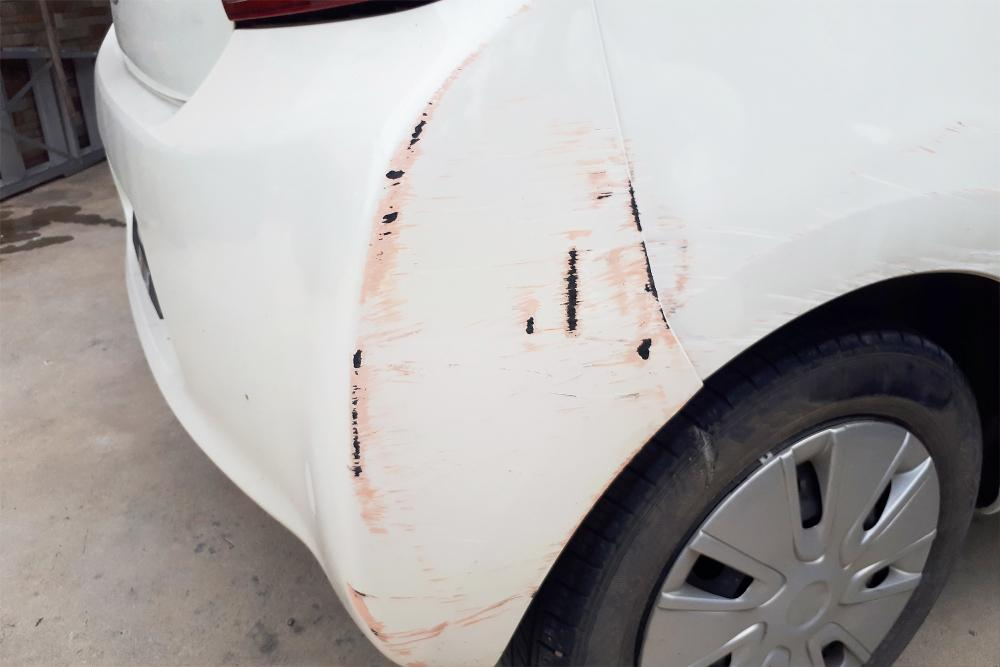scratch: (344, 1, 702, 667), (641, 106, 1000, 385)
